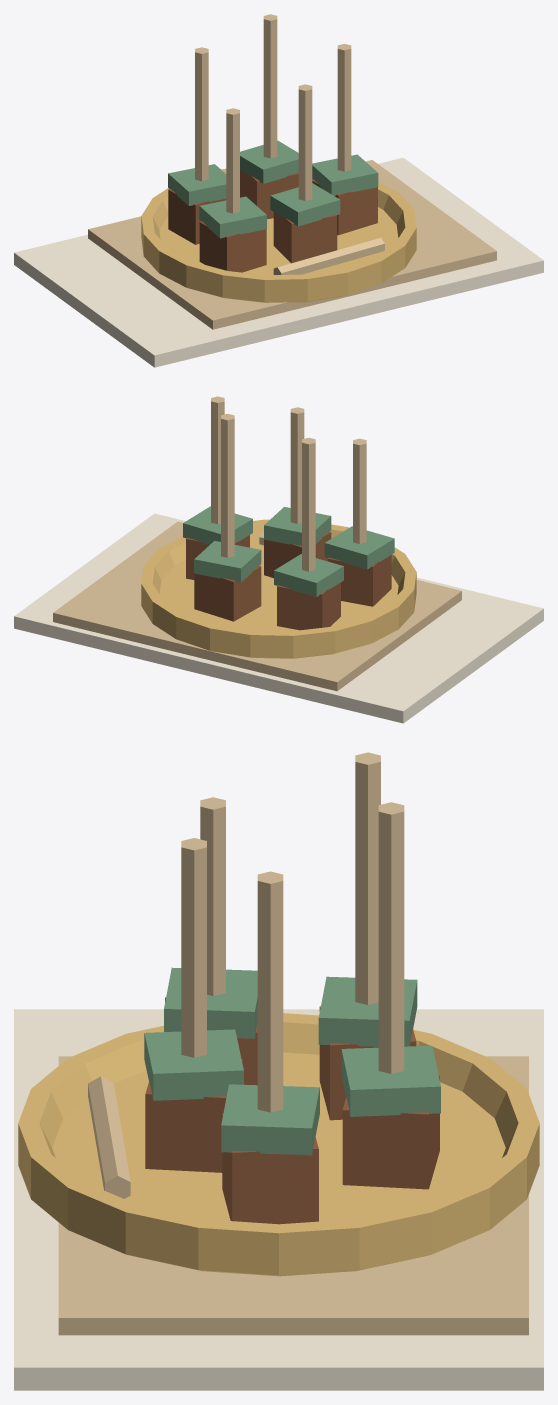
File: promo-samples.glb
3 renders of one model, top to bottom at view 1: azimuth 30°, elevation 25°; view 2: azimuth 150°, elevation 25°; view 3: azimuth 270°, elevation 25°, orthographic. The views are drawn at different scales.
Visible parts, largest first — view 1: promo-samples; view 2: promo-samples; view 3: promo-samples.
Boxes of the visible parts, x1,y1,x2,y2 form: promo-samples: (14,14,543,367); promo-samples: (14,396,543,723); promo-samples: (14,752,543,1390).
Bounding box in the file's own units: 0.4 × 0.22 × 0.25.
